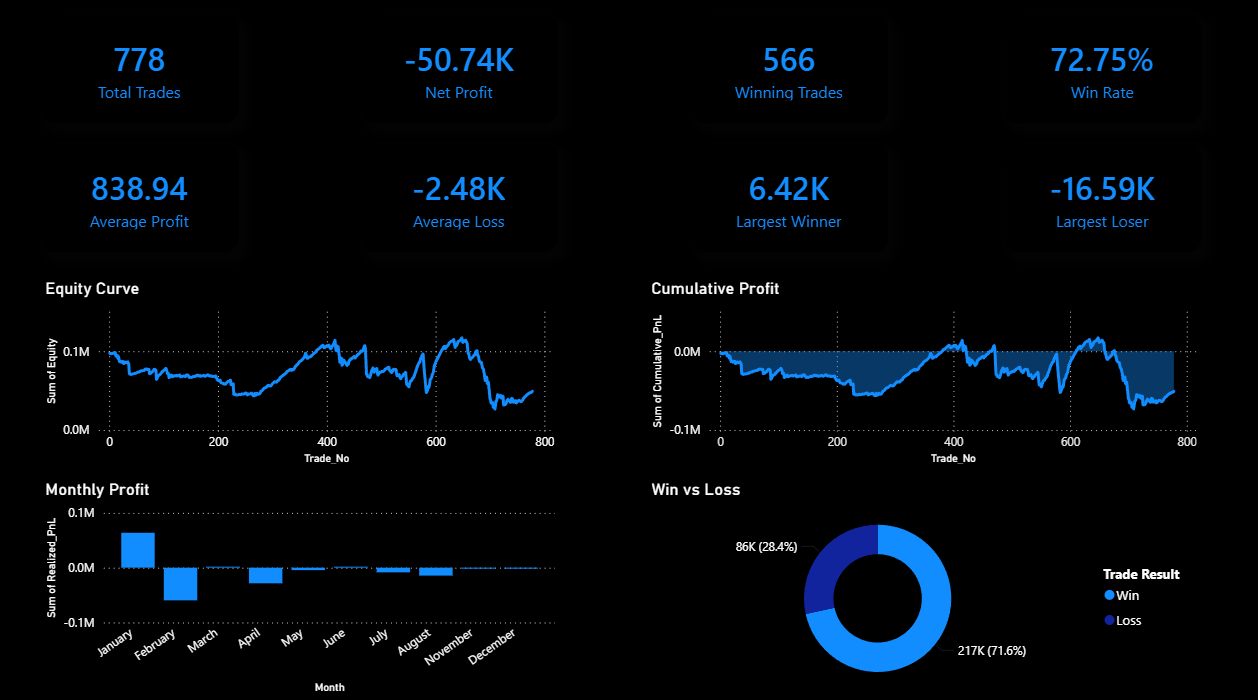

Layout of this report page (visuals, bound fields, positions):
{"tool":"powerbi","page":{"name":"Page 1","canvas":[1280,720],"ordinal":0},"visuals":[{"type":"cardVisual","fields":{"Data":["Trading_Analytics_Final.Total Trades"]},"box":[46.7,20,200,110],"z":0},{"type":"cardVisual","fields":{"Data":["Trading_Analytics_Final.Net Profit"]},"box":[370,20,200,110],"z":1000},{"type":"cardVisual","fields":{"Data":["Trading_Analytics_Final.Winning Trades"]},"box":[703.3,20,200,110],"z":2000},{"type":"cardVisual","fields":{"Data":["Trading_Analytics_Final.Win Rate"]},"box":[1018.3,20,200,110],"z":3000},{"type":"cardVisual","fields":{"Data":["Trading_Analytics_Final.Average Profit"]},"box":[46.7,150,200,110],"z":4000},{"type":"cardVisual","fields":{"Data":["Trading_Analytics_Final.Average Loss"]},"box":[370,150,200,110],"z":5000},{"type":"cardVisual","fields":{"Data":["Trading_Analytics_Final.Largest Winner"]},"box":[703.3,150,200,110],"z":6000},{"type":"cardVisual","fields":{"Data":["Trading_Analytics_Final.Largest Loser"]},"box":[1018.3,150,200,110],"z":7000},{"type":"lineChart","title":"Equity Curve","fields":{"Y":["Sum(Trading_Analytics_Final.Equity)"],"Category":["Trading_Analytics_Final.Trade_No"]},"box":[46.7,286.7,523.3,191.7],"z":8000},{"type":"areaChart","title":"Cumulative Profit","fields":{"Category":["Trading_Analytics_Final.Trade_No"],"Y":["Sum(Trading_Analytics_Final.Cumulative_PnL)"]},"box":[658.3,286.7,560,191.7],"z":9000},{"type":"clusteredColumnChart","title":"Monthly Profit","fields":{"Category":["Trading_Analytics_Final.YearMonth.Variation.Date Hierarchy.Month","Trading_Analytics_Final.YearMonth.Variation.Date Hierarchy.Day"],"Y":["Sum(Trading_Analytics_Final.Realized_PnL)"]},"box":[46.7,488.9,524.4,220],"z":10000},{"type":"donutChart","title":"Win vs Loss","fields":{"Category":["Trading_Analytics_Final.Trade_Result"],"Y":["Sum(Trading_Analytics_Final.Trade_No)"]},"box":[658,489,560,220],"z":10001}]}

Visuals, with their boxes in screenshot pixels (x1, y1, x2, y2), scaled from the page's 1280x720 canvas onto the 1258x700 screenshot:
cardVisual - Trading_Analytics_Final.Total Trades: 46/19/242/126
cardVisual - Trading_Analytics_Final.Net Profit: 364/19/560/126
cardVisual - Trading_Analytics_Final.Winning Trades: 691/19/888/126
cardVisual - Trading_Analytics_Final.Win Rate: 1001/19/1197/126
cardVisual - Trading_Analytics_Final.Average Profit: 46/146/242/253
cardVisual - Trading_Analytics_Final.Average Loss: 364/146/560/253
cardVisual - Trading_Analytics_Final.Largest Winner: 691/146/888/253
cardVisual - Trading_Analytics_Final.Largest Loser: 1001/146/1197/253
"Equity Curve" lineChart: 46/279/560/465
"Cumulative Profit" areaChart: 647/279/1197/465
"Monthly Profit" clusteredColumnChart: 46/475/561/689
"Win vs Loss" donutChart: 647/475/1197/689
